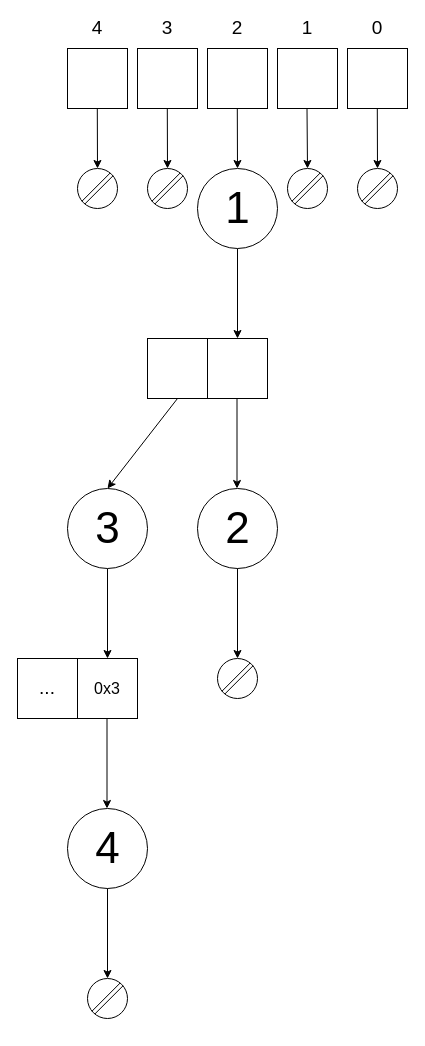
The diagram is 425 pixels wide and 1046 high, and some of its shapes have lost their labels. The shapes that lost their labels are listed below. From the top down, each one's centre as x and y in pixels, then its label:
At point (237, 78): "0xb".
At point (177, 368): "0x2".
At point (237, 368): "0x1".
